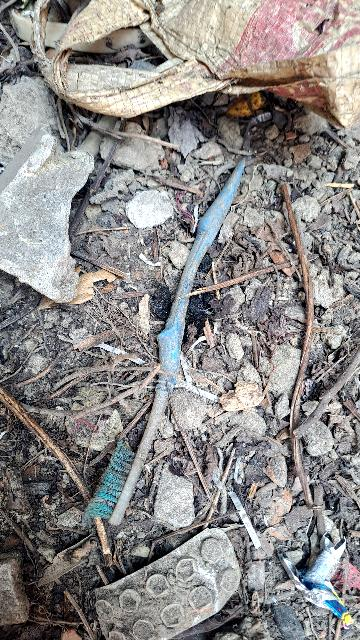hardplastic: (96, 144, 274, 536)
